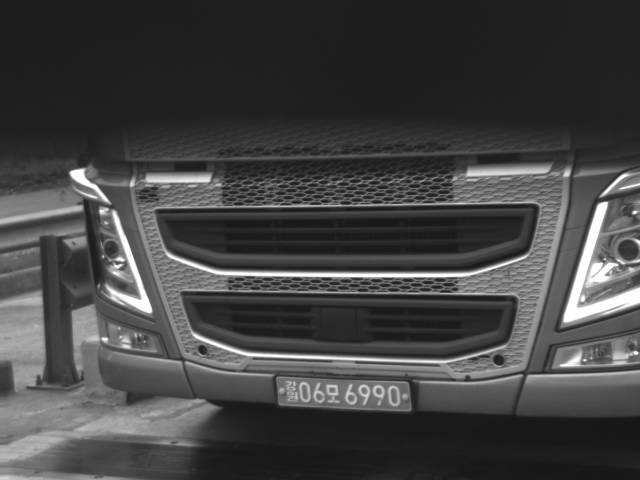car: (65, 123, 640, 421)
plate: (273, 375, 416, 414)
